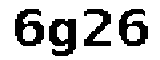2: (81, 4, 116, 50)
6: (12, 4, 45, 53), (117, 5, 151, 50)
g: (46, 15, 82, 60)
